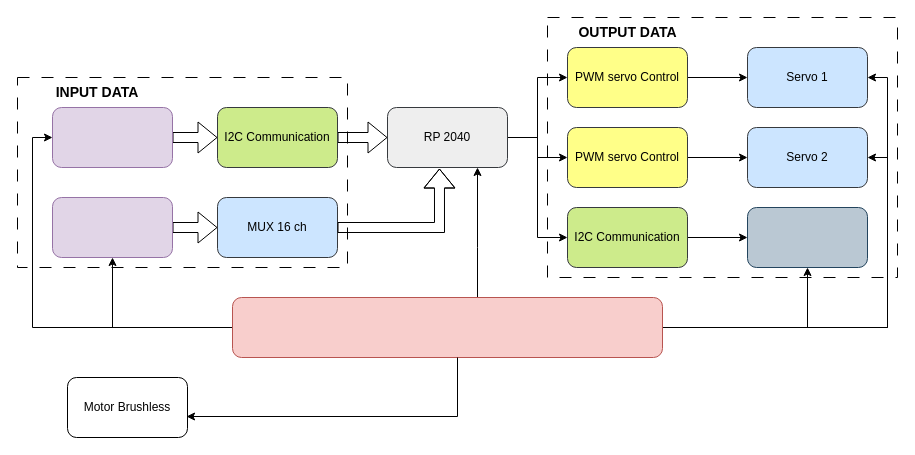
Some shapes in this 915 by 455 pixel diagram are drawn without their labels. The centre of each missing label's shape, as x and y in pixels:
"Digital Keypad" belongs at (x=112, y=227).
"IMU" belongs at (x=112, y=137).
"Interface" belongs at (x=807, y=237).
"Power System" belongs at (x=447, y=327).
